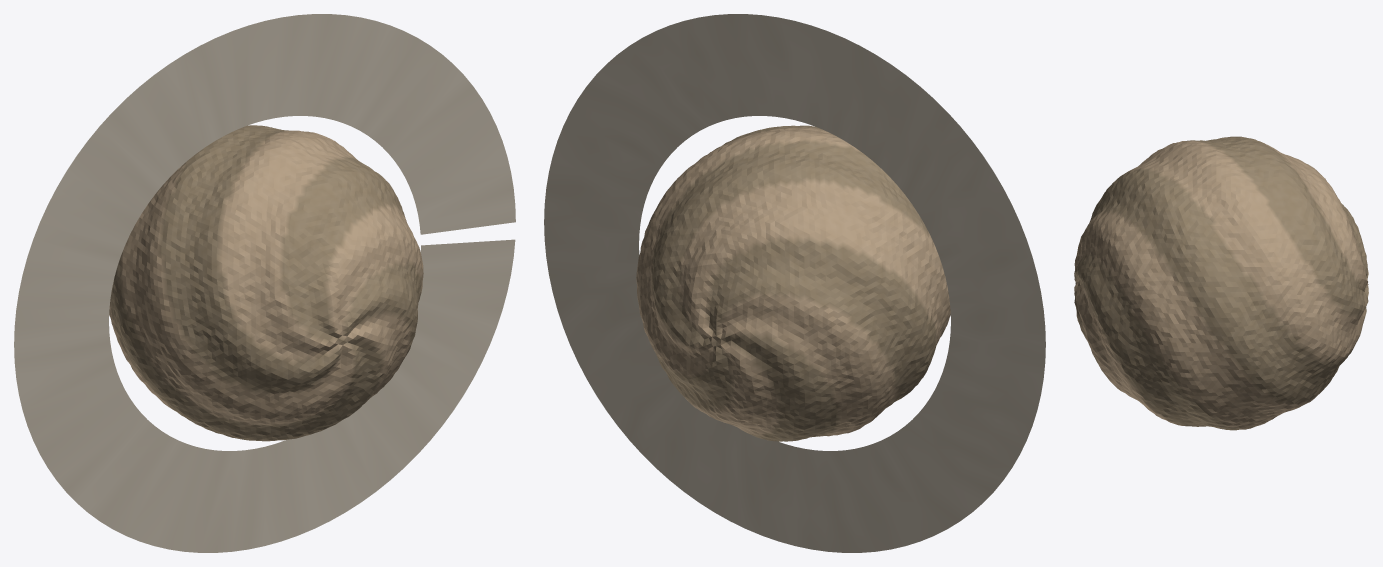
The model's file is planet_6.glb.
The picture shows the model from 3 angles, left to right: view 1: azimuth 30°, elevation 25°; view 2: azimuth 150°, elevation 25°; view 3: azimuth 270°, elevation 25°; orthographic projection. The views are drawn at different scales.
Visible parts, largest first — view 1: world; view 2: world; view 3: world.
Boxes of the visible parts, bbox=[...] form: world: bbox=[14, 14, 515, 552]; world: bbox=[544, 14, 1045, 552]; world: bbox=[1074, 136, 1368, 430].
Bounding box in the file's own units: 3.7 × 3.7 × 2.02.
